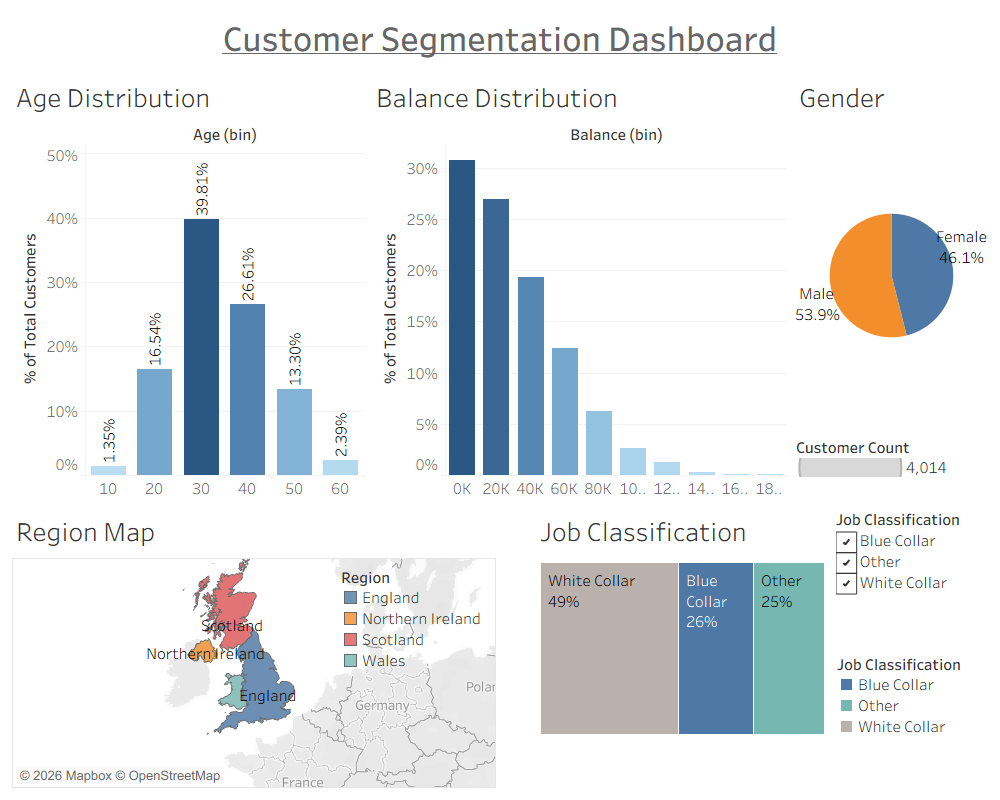

The page's visual inventory and layout, read from the dashboard file:
{"tool":"tableau","page":{"name":"Customer Segmentation","canvas":[1000,800],"ordinal":0},"visuals":[{"type":"text","box":[8,8,984,59]},{"type":"worksheet","title":"Age Distribution","mark":"Bar","rows":["P1-UK-Bank-Customers.csv_58A40CC0A9264916A25B9D38EEFD2ABD"],"cols":["Age (bin)"],"box":[8,70,360,433.7]},{"type":"worksheet","title":"Balance Distribution","mark":"Automatic","rows":["P1-UK-Bank-Customers.csv_58A40CC0A9264916A25B9D38EEFD2ABD"],"cols":["Balance (bin)"],"box":[368,70,423,433.7]},{"type":"worksheet","title":"Gender","mark":"Pie","box":[791,70,201,361]},{"type":"legend","title":"Gender","param":"[federated.04kotmu1ve3lps1ax3nhr1dlsbz9].[__tableau_internal_object_id__].[cnt:P","box":[791,431,201,66.3]},{"type":"worksheet","title":"Region Map","mark":"Multipolygon","box":[8,503.7,492,288.3]},{"type":"worksheet","title":"Job Classification","mark":"Automatic","box":[532,503.7,300,288.3]},{"type":"filter","title":"Job Classification","param":"[federated.04kotmu1ve3lps1ax3nhr1dlsbz9].[none:Job Classification:nk]","box":[832,503.7,160,144.1]},{"type":"legend","title":"Region Map","param":"[federated.04kotmu1ve3lps1ax3nhr1dlsbz9].[none:Region:nk]","box":[340,565,146,106]},{"type":"legend","title":"Job Classification","param":"[federated.04kotmu1ve3lps1ax3nhr1dlsbz9].[none:Job Classification:nk]","box":[832,647.9,160,144.1]}]}

Visuals, with their boxes in screenshot pixels (x1, y1, x2, y2), scaled from the page's 1000x800 canvas onto the 1000x800 screenshot:
text: 8/8/992/67
"Age Distribution" worksheet (Bar marks): 8/70/368/504
"Balance Distribution" worksheet: 368/70/791/504
"Gender" worksheet (Pie marks): 791/70/992/431
"Gender" legend: 791/431/992/497
"Region Map" worksheet (Multipolygon marks): 8/504/500/792
"Job Classification" worksheet: 532/504/832/792
"Job Classification" filter: 832/504/992/648
"Region Map" legend: 340/565/486/671
"Job Classification" legend: 832/648/992/792
